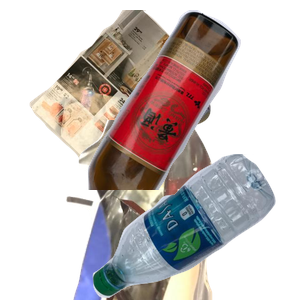glass: (85, 10, 300, 190)
paper: (27, 10, 230, 190)
plastic: (90, 154, 300, 300)
trash: (63, 120, 300, 300)
